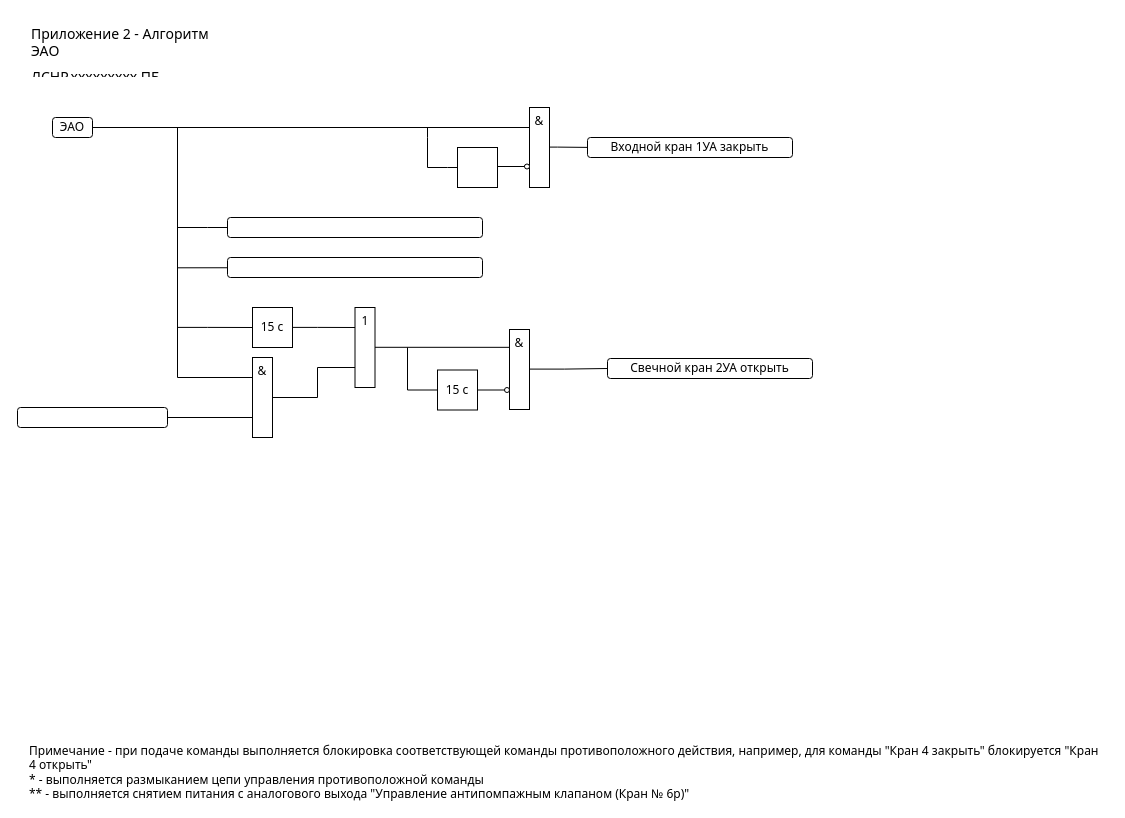
The diagram is 1125 pixels wide and 818 high, and some of its shapes have lost their labels. The shapes that lost their labels are listed below. From the top down, each one's centre as x and y in pixels, then its label:
At point (477, 167): "10 c".
At point (354, 227): "Снять питание с вых. модулей ЛИС БПТГ".
At point (354, 267): "Индикация ЭО на ПРУ".
At point (92, 417): "Входной кран 1УА закрыт".
